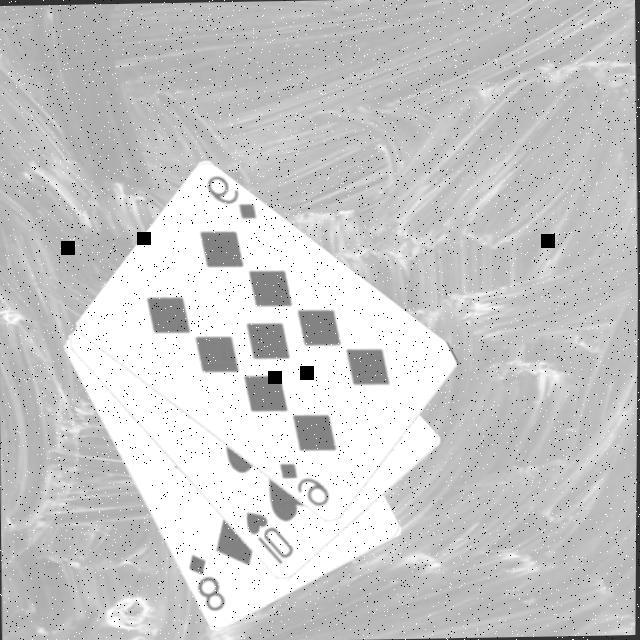10H: (242, 510, 298, 571)
8D: (185, 551, 230, 618)
9D: (277, 460, 335, 513), (203, 173, 261, 226)
